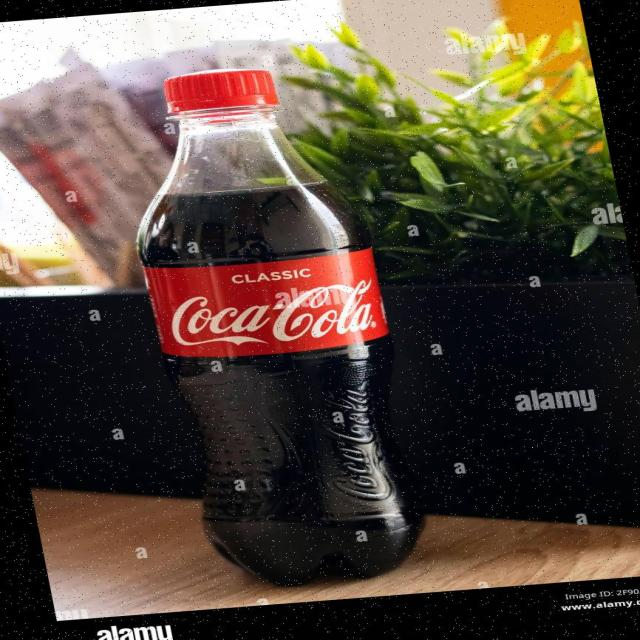coca-cola: (87, 56, 458, 600)
